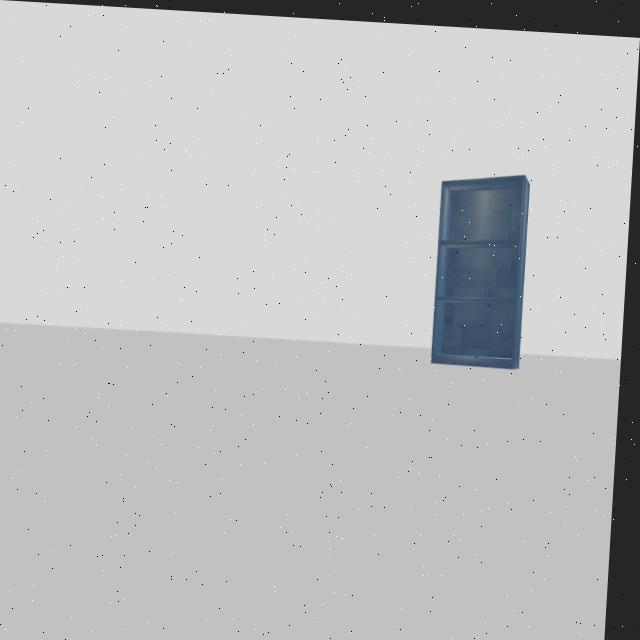shelf: (423, 153, 539, 383)
